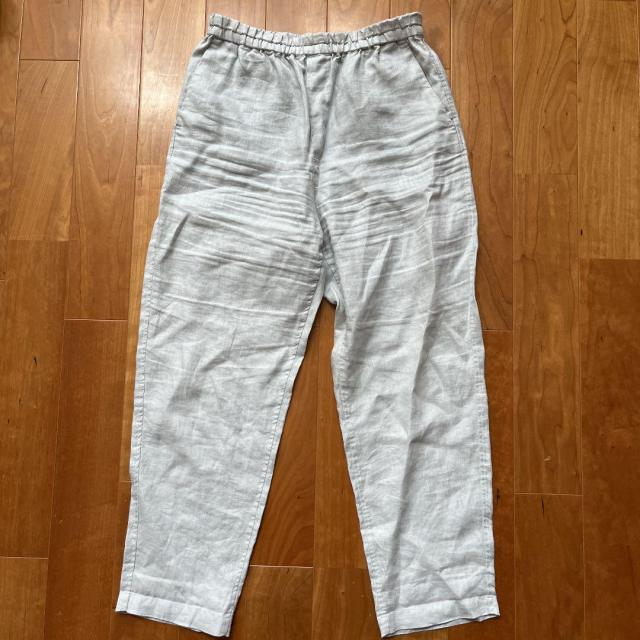long-pants: (114, 13, 502, 640)
